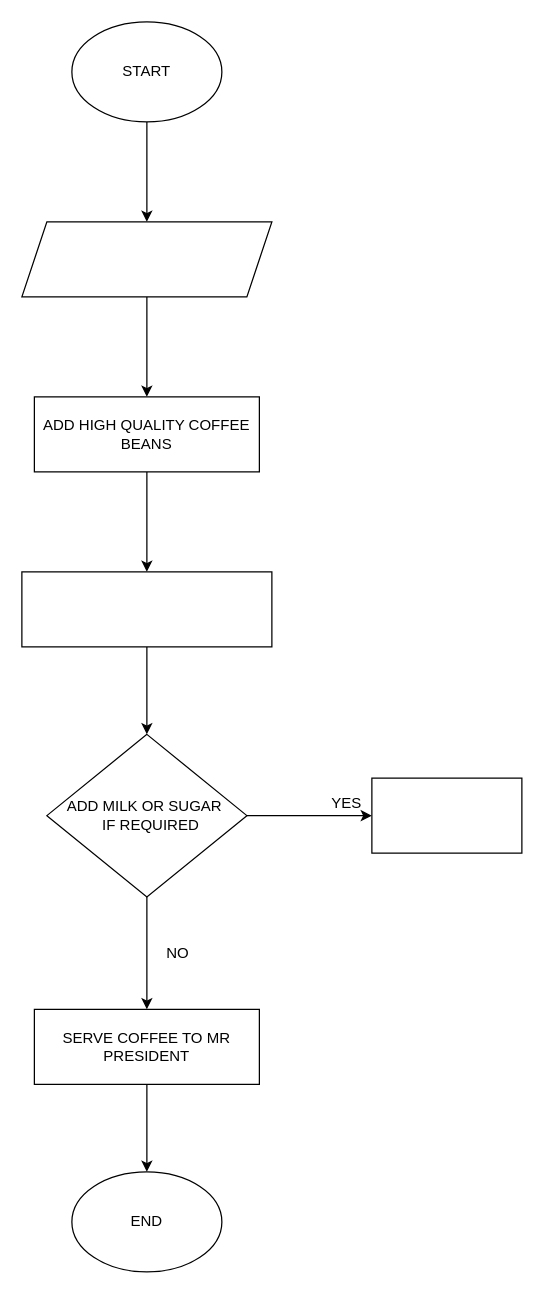
This 544x1294 diagram has some shape labels left out. The shapes that lost their labels are listed below. From the top down, each one's box as (x1, y1, x2, y2) in pixels, then its label:
(21, 221, 272, 297): ASK FOR PRESIDENTCOFFEE PREFERENCE
(21, 571, 272, 647): BOIL FILTERED WATER
(371, 777, 522, 853): ADDS MILK/SUGAR
